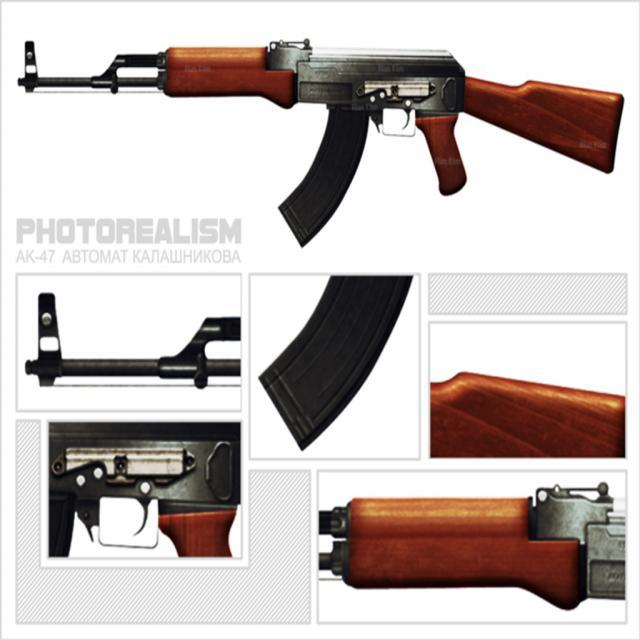weapon: (16, 38, 622, 246), (316, 476, 624, 614), (255, 270, 413, 454), (46, 419, 242, 558), (21, 289, 240, 391), (430, 367, 626, 459)
